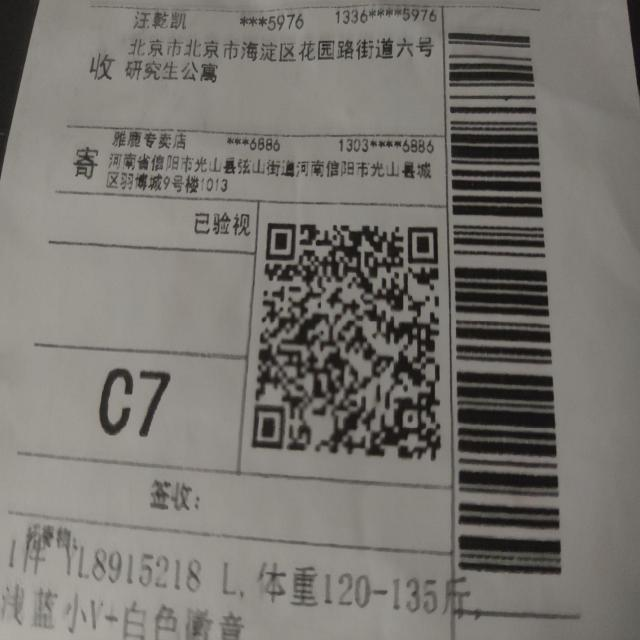qr_code: (251, 222, 441, 463)
